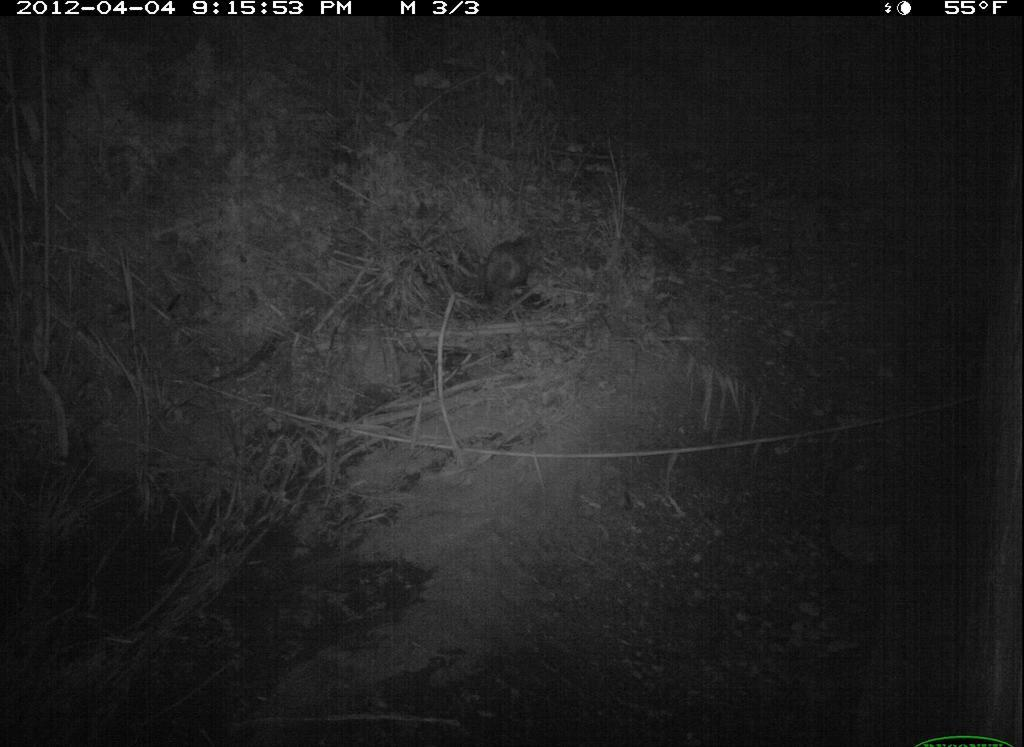opossum: (472, 223, 542, 333)
